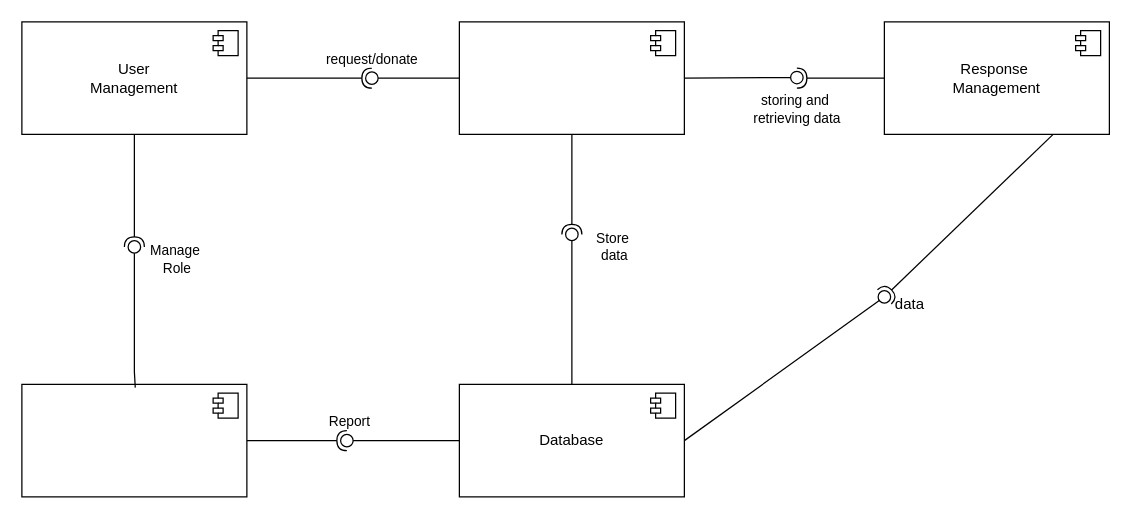
This 1131x519 diagram has some shape labels left out. The centre of each missing label's shape, as x and y in pixels:
"Admin" goes at pixel 134 440.
"Request Management" goes at pixel 571 77.
